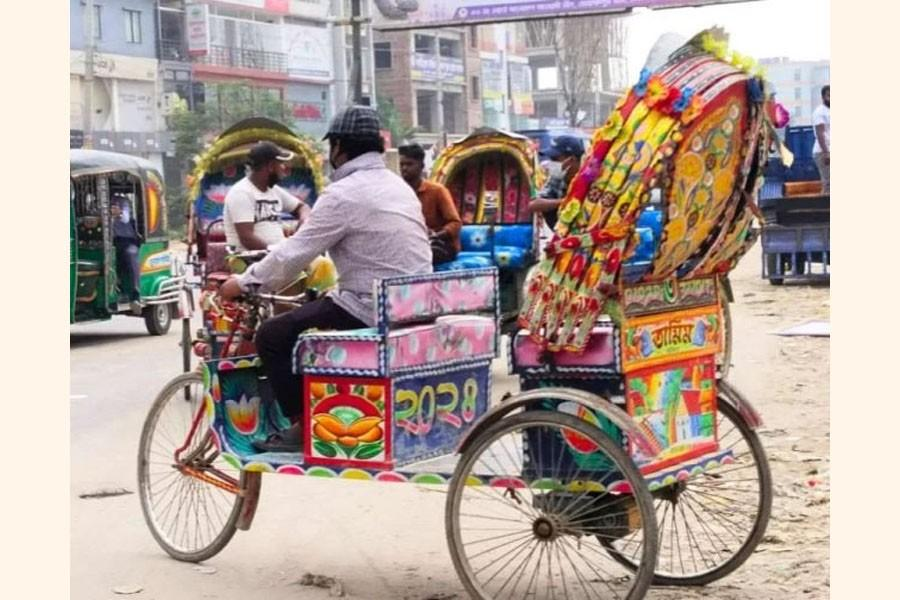Rickshaw: (293, 28, 774, 599), (138, 268, 735, 561), (434, 128, 544, 331), (186, 117, 324, 276)
